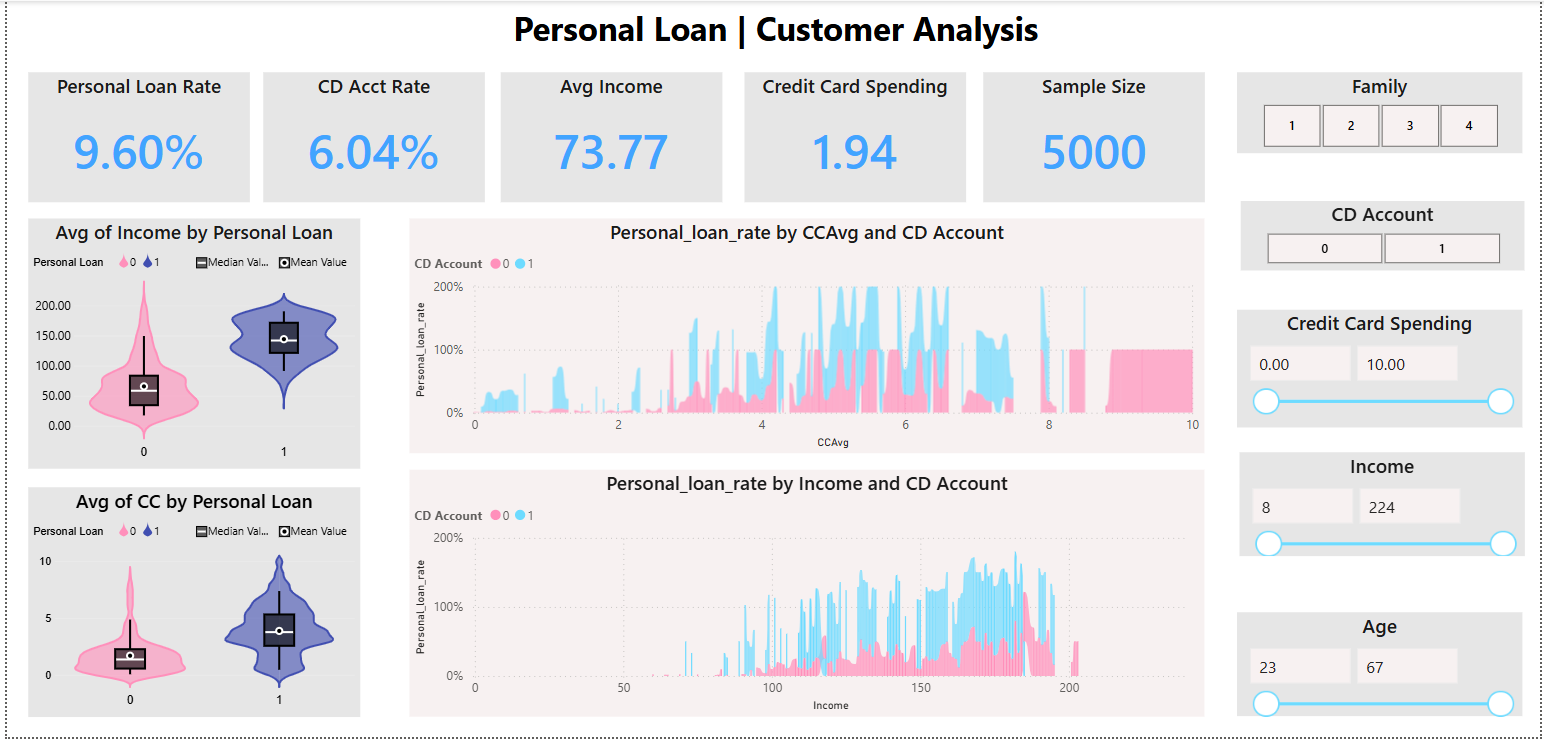

The page's visual inventory and layout, read from the dashboard file:
{"tool":"powerbi","page":{"name":"Box Plot","canvas":[1500,720],"ordinal":3},"visuals":[{"type":"card","title":"Personal Loan Rate","fields":{"Values":["Measure Table.Personal_loan_rate"]},"box":[20.2,69.3,216.4,127],"z":0},{"type":"textbox","box":[20.3,0,1462.5,52.4],"z":1000},{"type":"card","title":"CD Acct Rate","fields":{"Values":["Measure Table.CD_acct_rate"]},"box":[251,69.3,216.4,127],"z":2000},{"type":"card","title":"Avg Income","fields":{"Values":["Avg(Data.Income)"]},"box":[483.3,69.3,216.4,127],"z":3000},{"type":"card","title":"Credit Card Spending","fields":{"Values":["Avg(Data.CCAvg)"]},"box":[721.4,69.3,216.4,127],"z":4000},{"type":"card","title":"Sample Size","fields":{"Values":["CountNonNull(Data.ID)"]},"box":[955.1,69.3,216.4,127],"z":5000},{"type":"violinPlot4D46EB9EB3A141D9BA2289793175D971","title":"Avg of Income by Personal Loan","fields":{"sampling":["Data.ID"],"measure":["Avg(Data.Income)"],"category":["Data.Personal Loan"]},"box":[20.3,213,324.6,245.2],"z":6000},{"type":"ribbonChart","fields":{"Category":["Data.CCAvg"],"Series":["Data.CD Account"],"Y":["Measure Table.Personal_loan_rate"]},"box":[393.9,213,777.7,229.9],"z":7000},{"type":"ribbonChart","fields":{"Series":["Data.CD Account"],"Y":["Measure Table.Personal_loan_rate"],"Category":["Data.Income"]},"box":[393.9,458.2,777.7,241.8],"z":8000},{"type":"violinPlot4D46EB9EB3A141D9BA2289793175D971","title":"Avg of CC by Personal Loan","fields":{"sampling":["Data.ID"],"category":["Data.Personal Loan"],"measure":["Avg(Data.CCAvg)"]},"box":[20.3,475.1,324.6,224.9],"z":9000},{"type":"slicer","title":"Credit Card Spending","fields":{"Values":["Data.CCAvg"]},"box":[1203.8,302.6,279,115],"z":10000},{"type":"slicer","title":"Family","fields":{"Values":["Data.Family"]},"box":[1203.8,69.3,279,79.5],"z":11000},{"type":"slicer","title":"Income","fields":{"Values":["Data.Income"]},"box":[1205.5,441.3,279,101.4],"z":12000},{"type":"slicer","title":"Age","fields":{"Values":["Data.Age"]},"box":[1203.8,598.5,279,101.4],"z":13000},{"type":"slicer","title":"CD Account","fields":{"Values":["Data.CD Account"]},"box":[1207.2,196.1,277.3,67.6],"z":14000}]}

Visuals, with their boxes in screenshot pixels (x1, y1, x2, y2), scaled from the page's 1500x720 canvas onto the 1544x744 screenshot:
"Personal Loan Rate" card: (21, 72, 244, 203)
textbox: (21, 0, 1526, 54)
"CD Acct Rate" card: (258, 72, 481, 203)
"Avg Income" card: (497, 72, 720, 203)
"Credit Card Spending" card: (743, 72, 965, 203)
"Sample Size" card: (983, 72, 1206, 203)
"Avg of Income by Personal Loan" violinPlot4D46EB9EB3A141D9BA2289793175D971: (21, 220, 355, 473)
ribbonChart - Data.CCAvg x Data.CD Account: (405, 220, 1206, 458)
ribbonChart - Data.CD Account x Measure Table.Personal_loan_rate: (405, 473, 1206, 723)
"Avg of CC by Personal Loan" violinPlot4D46EB9EB3A141D9BA2289793175D971: (21, 491, 355, 723)
"Credit Card Spending" slicer: (1239, 313, 1526, 432)
"Family" slicer: (1239, 72, 1526, 154)
"Income" slicer: (1241, 456, 1528, 561)
"Age" slicer: (1239, 618, 1526, 723)
"CD Account" slicer: (1243, 203, 1528, 272)
